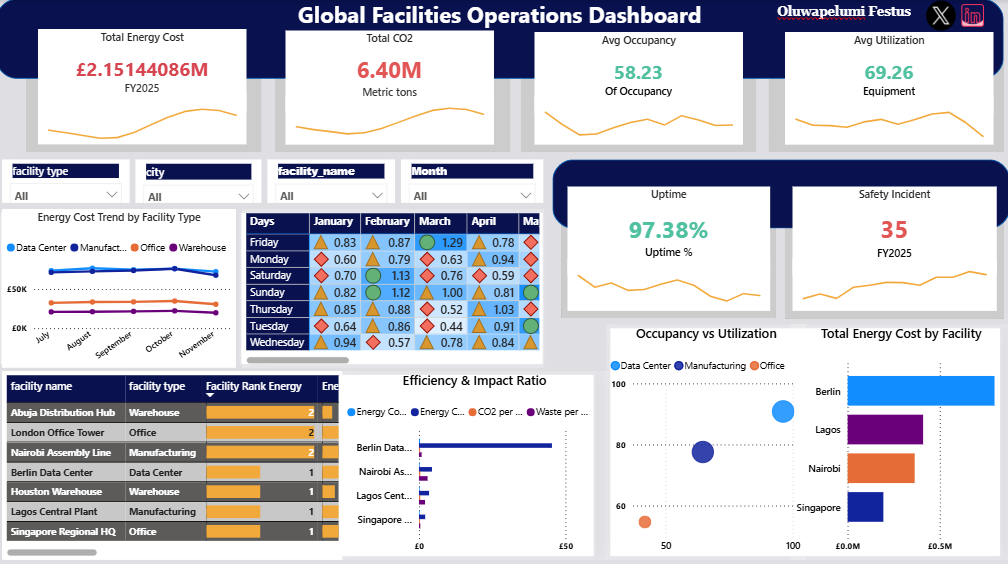

Layout of this report page (visuals, bound fields, positions):
{"tool":"powerbi","page":{"name":"Page 1","canvas":[1280,720],"ordinal":0},"visuals":[{"type":"shape","box":[769.1,410.1,500.8,296.7],"z":0},{"type":"shape","box":[7.6,468.7,750.2,238.1],"z":1000},{"type":"shape","box":[37.8,51,296.7,141.7],"z":2000},{"type":"slicer","fields":{"Values":["facility_operations_dataset.facility_type"]},"box":[7.6,202.2,160.6,54.8],"z":3000},{"type":"slicer","fields":{"Values":["facility_operations_dataset.city"]},"box":[175.7,202.2,158.7,54.8],"z":4000},{"type":"slicer","fields":{"Values":["DateTable.Date.Variation.Date Hierarchy.Month"]},"box":[510.2,202.2,179.5,54.8],"z":5000},{"type":"shape","box":[994,240,275.9,162.5],"z":6000},{"type":"shape","box":[304.3,264.6,389.3,200.3],"z":7000},{"type":"shape","box":[1.9,264.6,294.8,200.3],"z":8000},{"type":"shape","box":[712.4,236.2,270.2,166.3],"z":9000},{"type":"shape","box":[701.1,202.2,576.4,86.9],"z":10000},{"type":"shape","box":[351.5,51,296.7,141.7],"z":11000},{"type":"shape","box":[973.2,41.6,296.7,151.2],"z":12000},{"type":"shape","box":[661.4,51,296.7,141.7],"z":13000},{"type":"shape","title":"Global Facilities Operations Dashboard","box":[0,0,1269.5,100.4],"z":14000},{"type":"cardVisual","title":"Total Energy Cost","fields":{"Data":["facility_operations_dataset.Total Energy Cost"]},"box":[52.9,37.8,262.7,103.9],"z":15000},{"type":"cardVisual","title":"Avg Occupancy ","fields":{"Data":["facility_operations_dataset.Avg Occupancy %"]},"box":[678.4,41.6,262.7,103.9],"z":16000},{"type":"cardVisual","title":"Avg Utilization ","fields":{"Data":["facility_operations_dataset.Avg Equipment Utilization %"]},"box":[994,41.6,262.7,103.9],"z":17000},{"type":"cardVisual","title":"Uptime ","fields":{"Data":["facility_operations_dataset.Uptime %"]},"box":[720,236.2,255.1,111.5],"z":18000},{"type":"cardVisual","title":"Safety Incident ","fields":{"Data":["facility_operations_dataset.Total Safety Incidents"]},"box":[1003.5,236.2,257,111.5],"z":19000},{"type":"lineChart","title":"Energy Cost Trend by Facility Type","fields":{"Category":["DateTable.Date.Variation.Date Hierarchy.Month"],"Y":["facility_operations_dataset.Total Energy Cost"],"Series":["facility_operations_dataset.facility_type"]},"box":[7.6,264.6,294.8,200.3],"z":20000},{"type":"barChart","title":"Total Energy Cost by Facility","fields":{"Category":["facility_operations_dataset.city"],"Y":["facility_operations_dataset.Total Energy Cost"]},"box":[1001.6,410.1,277.8,296.7],"z":21000},{"type":"tableEx","title":"Energy Cost Trend by Facility Type","fields":{"Values":["facility_operations_dataset.facility_name","facility_operations_dataset.facility_type","facility_operations_dataset.Facility Rank by Energy Cost","facility_operations_dataset.Total Energy Cost","facility_operations_dataset.Total Maintenance Cost","facility_operations_dataset.Total Downtime (Hours)","facility_operations_dataset.Avg Occupancy %","facility_operations_dataset.Avg Equipment Utilization %","facility_operations_dataset.Total CO2 Emissions (kg)","facility_operations_dataset.Total Safety Incidents","facility_operations_dataset.Downtime Rank by Facility"]},"box":[7.6,468.7,429,238.1],"z":22000},{"type":"scatterChart","title":"Occupancy vs Utilization","fields":{"Size":["facility_operations_dataset.Total Energy Cost"],"Series":["facility_operations_dataset.facility_type"],"X":["facility_operations_dataset.Avg Occupancy %"],"Y":["facility_operations_dataset.Avg Equipment Utilization %"]},"box":[769.1,410.1,251.3,296.7],"z":23000},{"type":"pivotTable","title":"Occupancy vs Utilization","fields":{"Rows":["facility_operations_dataset.day_of_week"],"Columns":["DateTable.Date.Variation.Date Hierarchy.Month"],"Values":["facility_operations_dataset.Avg Downtime per Day"]},"box":[309.9,264.6,379.8,200.3],"z":24000},{"type":"clusteredBarChart","title":"Efficiency & Impact Ratio","fields":{"Category":["facility_operations_dataset.facility_name"],"Y":["facility_operations_dataset.Energy Cost per sqm","facility_operations_dataset.Energy Cost per Occupant","facility_operations_dataset.CO2 per kWh","facility_operations_dataset.Waste per Occupant"]},"box":[436.5,468.7,332.6,238.1],"z":25000},{"type":"slicer","fields":{"Values":["facility_operations_dataset.facility_name"]},"box":[342,202.2,160.6,54.8],"z":26000},{"type":"lineChart","fields":{"Category":["DateTable.Date.Variation.Date Hierarchy.Month"],"Y":["DateTable.Utilization 3-Month Avg"]},"box":[994,122.8,262.7,60.5],"z":27000},{"type":"lineChart","fields":{"Category":["DateTable.Date.Variation.Date Hierarchy.Month"],"Y":["DateTable.Occupancy 3-Month Avg"]},"box":[678.4,122.8,262.7,60.5],"z":28000},{"type":"cardVisual","title":"Total CO2","fields":{"Data":["facility_operations_dataset.Total CO2 Emissions (kg)"]},"box":[364.7,39.7,262.7,102],"z":29000},{"type":"lineChart","fields":{"Category":["DateTable.Date.Variation.Date Hierarchy.Month"],"Y":["DateTable.Energy Cost 3-Month Avg"]},"box":[52.9,117.2,262.7,66.1],"z":30000},{"type":"lineChart","fields":{"Category":["DateTable.Date.Variation.Date Hierarchy.Month"],"Y":["DateTable.CO2 3-Month Avg"]},"box":[364.7,122.8,262.7,60.5],"z":31000},{"type":"image","box":[1167.9,1.9,45.4,37.8],"z":32000},{"type":"image","box":[1203.8,0,52.9,41.6],"z":33000},{"type":"lineChart","fields":{"Category":["DateTable.Date.Variation.Date Hierarchy.Month"],"Y":["DateTable.Safety Incident 3-Month Avg"]},"box":[1003.5,326.9,257,66.1],"z":34000},{"type":"lineChart","fields":{"Category":["DateTable.Date.Variation.Date Hierarchy.Month"],"Y":["DateTable.Uptime 3-Month Avg"]},"box":[720,326.9,255.1,66.1],"z":35000},{"type":"textbox","box":[895.8,1.9,272.1,37.8],"z":36000}]}

Visuals, with their boxes in screenshot pixels (x1, y1, x2, y2), scaled from the page's 1280x720 canvas onto the 1008x564 screenshot:
shape: locate(606, 321, 1000, 554)
shape: locate(6, 367, 597, 554)
shape: locate(30, 40, 263, 151)
slicer - facility_operations_dataset.facility_type: locate(6, 158, 132, 201)
slicer - facility_operations_dataset.city: locate(138, 158, 263, 201)
slicer - DateTable.Date.Variation.Date Hierarchy.Month: locate(402, 158, 543, 201)
shape: locate(783, 188, 1000, 315)
shape: locate(240, 207, 546, 364)
shape: locate(1, 207, 234, 364)
shape: locate(561, 185, 774, 315)
shape: locate(552, 158, 1006, 226)
shape: locate(277, 40, 510, 151)
shape: locate(766, 33, 1000, 151)
shape: locate(521, 40, 755, 151)
"Global Facilities Operations Dashboard" shape: locate(0, 0, 1000, 79)
"Total Energy Cost" cardVisual: locate(42, 30, 249, 111)
"Avg Occupancy " cardVisual: locate(534, 33, 741, 114)
"Avg Utilization " cardVisual: locate(783, 33, 990, 114)
"Uptime " cardVisual: locate(567, 185, 768, 272)
"Safety Incident " cardVisual: locate(790, 185, 993, 272)
"Energy Cost Trend by Facility Type" lineChart: locate(6, 207, 238, 364)
"Total Energy Cost by Facility" barChart: locate(789, 321, 1007, 554)
"Energy Cost Trend by Facility Type" tableEx: locate(6, 367, 344, 554)
"Occupancy vs Utilization" scatterChart: locate(606, 321, 804, 554)
"Occupancy vs Utilization" pivotTable: locate(244, 207, 543, 364)
"Efficiency & Impact Ratio" clusteredBarChart: locate(344, 367, 606, 554)
slicer - facility_operations_dataset.facility_name: locate(269, 158, 396, 201)
lineChart - DateTable.Date.Variation.Date Hierarchy.Month x DateTable.Utilization 3-Month Avg: locate(783, 96, 990, 144)
lineChart - DateTable.Date.Variation.Date Hierarchy.Month x DateTable.Occupancy 3-Month Avg: locate(534, 96, 741, 144)
"Total CO2" cardVisual: locate(287, 31, 494, 111)
lineChart - DateTable.Date.Variation.Date Hierarchy.Month x DateTable.Energy Cost 3-Month Avg: locate(42, 92, 249, 144)
lineChart - DateTable.Date.Variation.Date Hierarchy.Month x DateTable.CO2 3-Month Avg: locate(287, 96, 494, 144)
image: locate(920, 1, 955, 31)
image: locate(948, 0, 990, 33)
lineChart - DateTable.Date.Variation.Date Hierarchy.Month x DateTable.Safety Incident 3-Month Avg: locate(790, 256, 993, 308)
lineChart - DateTable.Date.Variation.Date Hierarchy.Month x DateTable.Uptime 3-Month Avg: locate(567, 256, 768, 308)
textbox: locate(705, 1, 920, 31)
